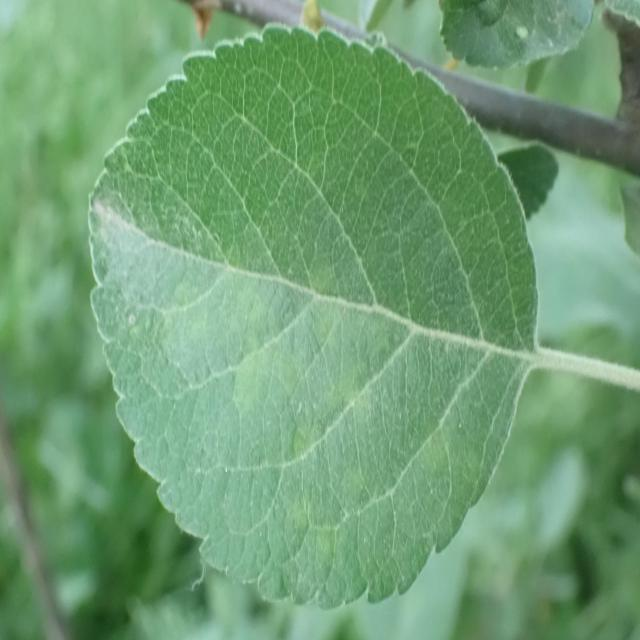scab: (106, 168, 508, 535)
